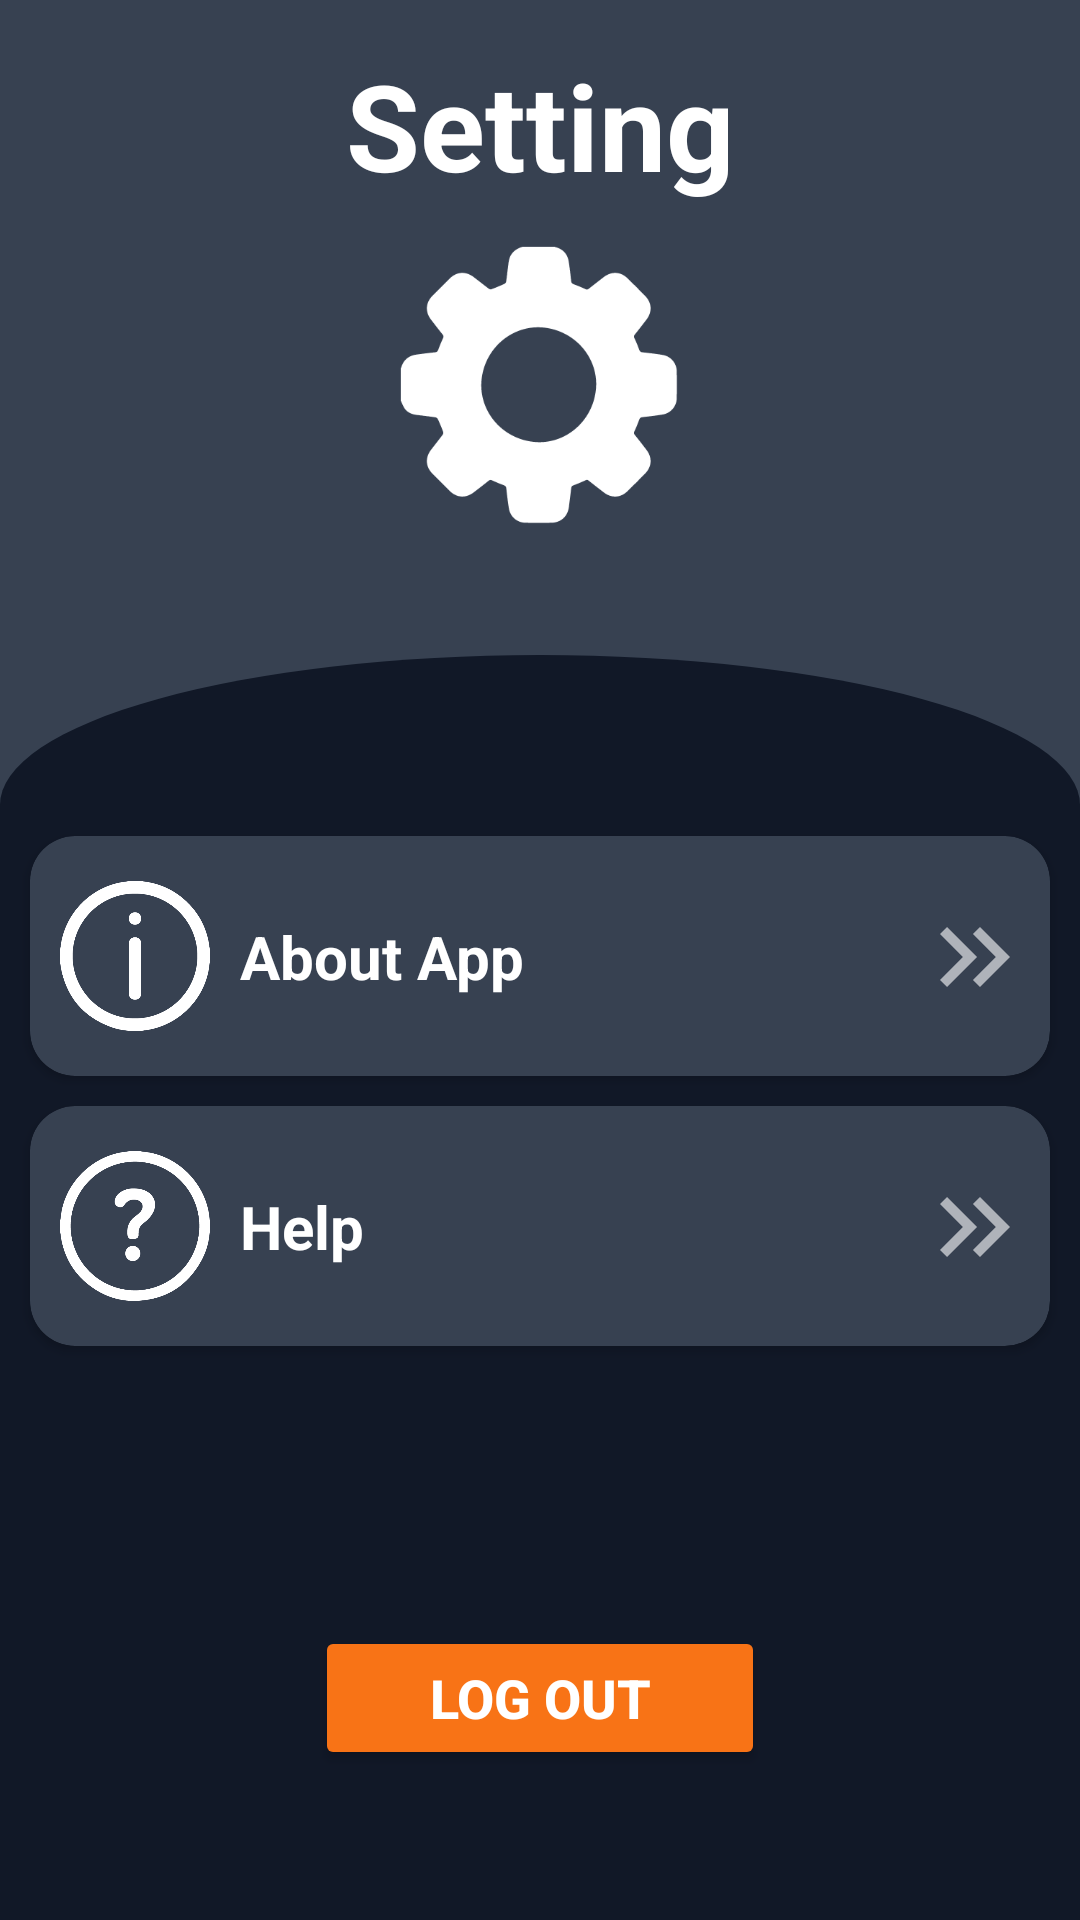

Screen size 1080 × 1920. Icon name, then its box in pixels as (x1, y1, x2, y2):
keyboard double arrow right: (940, 927, 1010, 987), (940, 1197, 1010, 1257)
